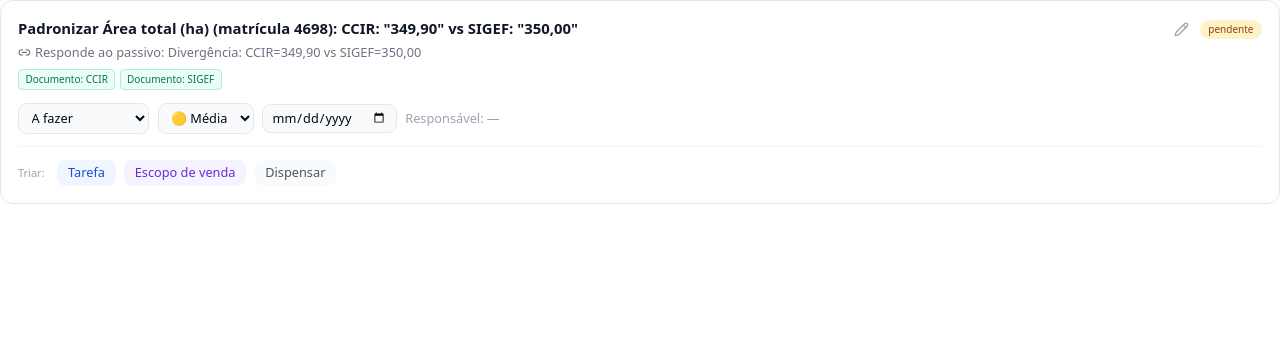
Test: AcaoCard (item 1 — ação editável) › não deixa salvar título vazio (botão desabilitado, sem PATCH)
The width and height of the screenshot is (1280, 354).
Click the button named "editar ação". click: (1182, 30)
box: [1170,18,1193,41]
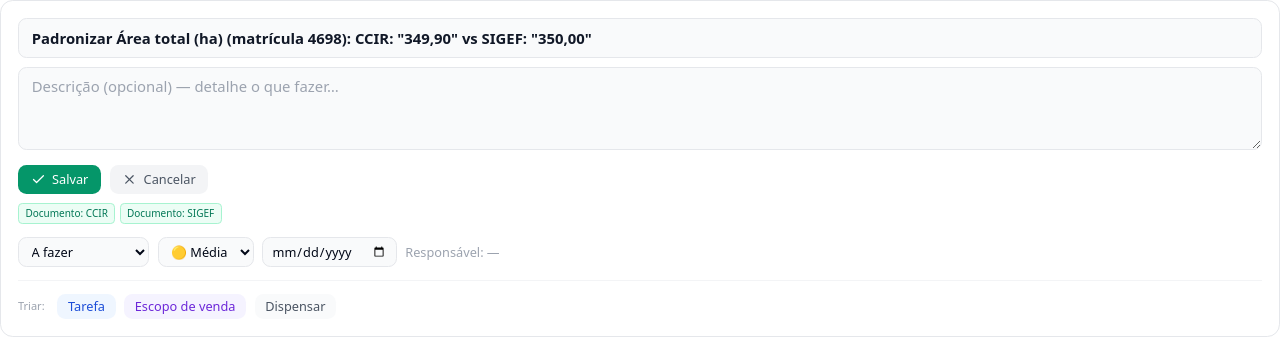
Clear the field named "Título da ação". click: (640, 38)
box: [18,18,1262,58]
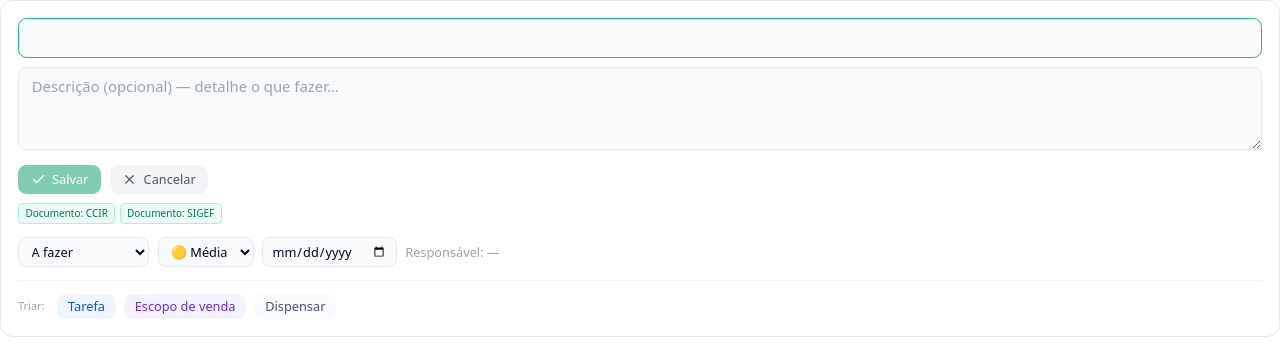
expect the button "Salvar" is disabled: met, box [18,164,101,194]
